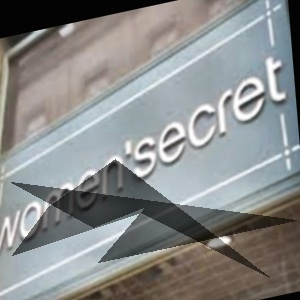women_secret: (0, 62, 298, 195)
